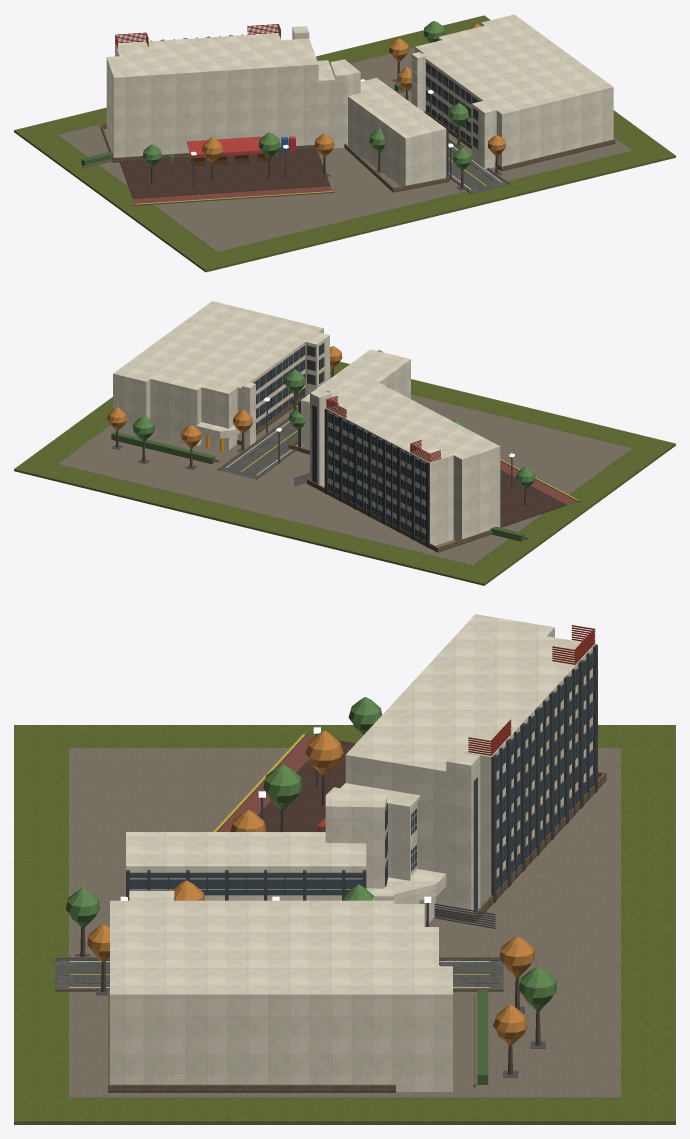
Rendered from zone5.glb.
3 views of the same model, one above another, from view 1: azimuth 30°, elevation 25°; view 2: azimuth 150°, elevation 25°; view 3: azimuth 270°, elevation 25° (orthographic). The views are drawn at different scales.
Parts seen in each view (by area): view 1: MH_Mass_Main, WH_Site_GrassApron, WH_Site_Pavement, WH_Site_Plaza, WH_Fac_Hall01_Base, WH_Site_Tree_Leaf, WH_Site_Tree_Autumn, Frame, WH_Site_PlazaApron, WH_Site_Alley, Glass_Lower_01, WH_Site_Awning (+4 smaller); view 2: MH_Mass_Main, WH_Site_Pavement, WH_Site_GrassApron, Frame, Glass_Lower_01, WH_Site_Alley, WH_Site_Plaza, WH_Fac_Hall01_Base, WH_Site_Tree_Leaf, WH_Site_Hedge, WH_Site_Tree_Autumn, RoofFence (+1 smaller); view 3: MH_Mass_Main, WH_Site_GrassApron, WH_Site_Pavement, Frame, Glass_Lower_01, WH_Fac_Hall01_Base, WH_Site_Tree_Autumn, WH_Site_Tree_Leaf, WH_Site_Alley, WH_Site_Plaza, RoofFence, WH_Site_PlazaApron (+3 smaller).
Boxes of the visible parts, x1,y1,x2,y2 form: MH_Mass_Main: (106, 14, 613, 186); WH_Site_GrassApron: (14, 15, 675, 272); WH_Site_Pavement: (58, 48, 631, 251); WH_Site_Plaza: (119, 149, 330, 198); WH_Fac_Hall01_Base: (100, 110, 615, 205); WH_Site_Tree_Leaf: (142, 21, 471, 170); WH_Site_Tree_Autumn: (202, 23, 505, 162); Frame: (118, 32, 479, 176); WH_Site_PlazaApron: (133, 186, 331, 203); WH_Site_Alley: (448, 141, 508, 193); Glass_Lower_01: (426, 63, 478, 143); WH_Site_Awning: (186, 136, 263, 157); MH_Mass_Main: (113, 301, 500, 545); WH_Site_Pavement: (58, 374, 631, 565); WH_Site_GrassApron: (14, 361, 675, 585); Frame: (254, 343, 429, 547); Glass_Lower_01: (254, 346, 425, 541); WH_Site_Alley: (219, 419, 298, 478); WH_Site_Plaza: (500, 470, 566, 527); WH_Fac_Hall01_Base: (217, 394, 580, 552); WH_Site_Tree_Leaf: (133, 350, 535, 489); WH_Site_Hedge: (111, 431, 524, 541); WH_Site_Tree_Autumn: (107, 346, 342, 448); RoofFence: (326, 396, 440, 462); MH_Mass_Main: (110, 614, 594, 1091); WH_Site_GrassApron: (14, 725, 675, 1124); WH_Site_Pavement: (69, 748, 620, 1097); Frame: (126, 644, 597, 903); Glass_Lower_01: (130, 651, 593, 912); WH_Fac_Hall01_Base: (55, 733, 606, 1092); WH_Site_Tree_Autumn: (87, 730, 534, 1045); WH_Site_Tree_Leaf: (65, 697, 556, 1011); WH_Site_Alley: (55, 959, 503, 988); WH_Site_Plaza: (257, 740, 355, 831); RoofFence: (468, 625, 595, 755); WH_Site_PlazaApron: (218, 736, 313, 831).
Size of the model in its own units: 68 by 13.22 by 48.
Materials: 25 (7 with a texture image).
